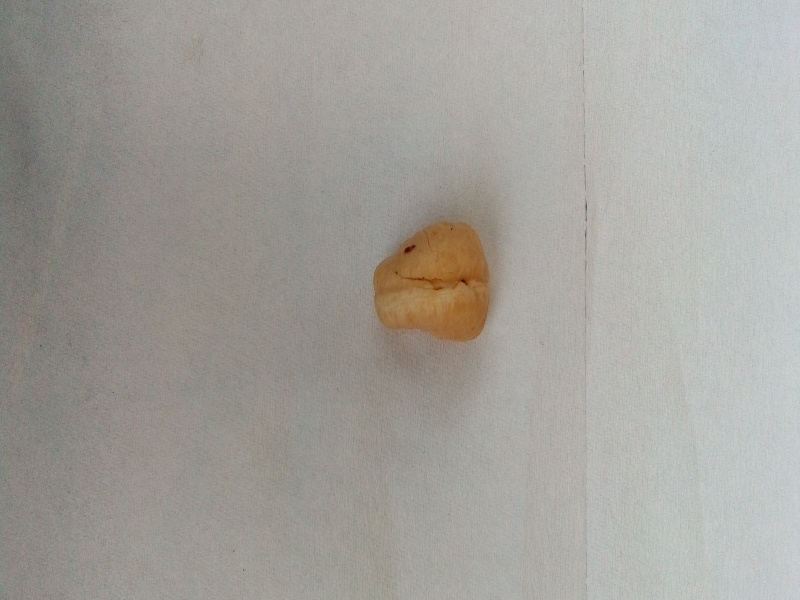cashew: (354, 197, 529, 368)
